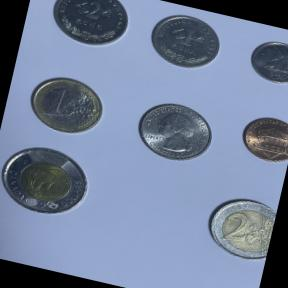coin: (0, 136, 97, 224), (20, 66, 114, 142), (128, 94, 222, 169), (197, 188, 278, 267), (44, 0, 138, 55), (232, 109, 288, 167), (242, 32, 288, 91)
